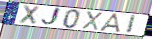0: (62, 9, 82, 29)
A: (98, 13, 123, 34)
I: (125, 15, 137, 35)
J: (40, 7, 62, 27)
X: (17, 4, 42, 26), (81, 11, 104, 32)
